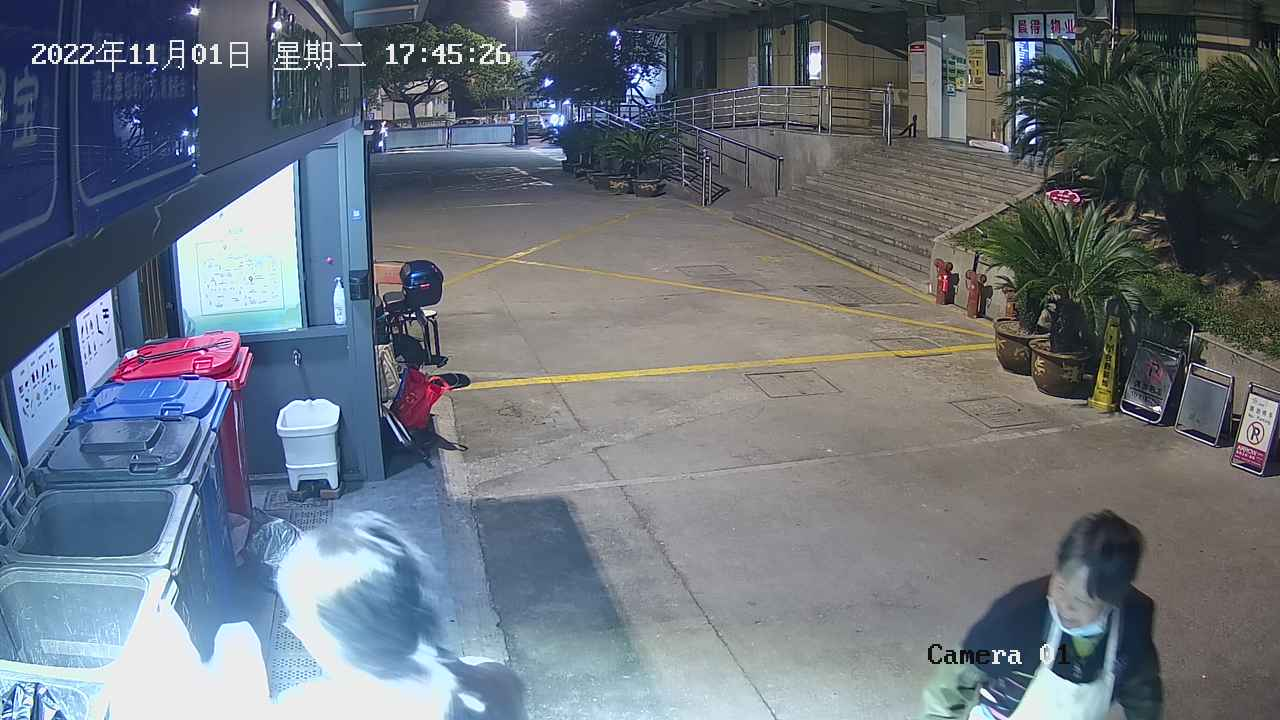garbage-bag: (104, 596, 274, 720)
person: (275, 507, 531, 720), (910, 508, 1166, 720)
